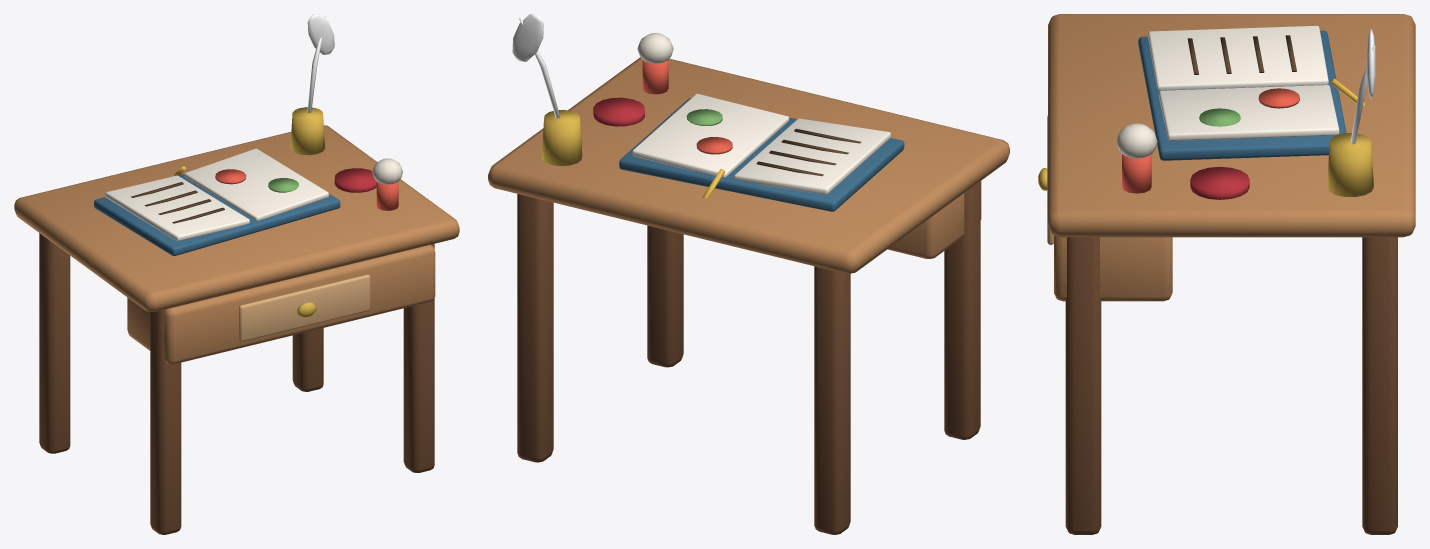
File: guestbook-desk.glb
3 views of the same model, side by side, from view 1: azimuth 30°, elevation 25°; view 2: azimuth 150°, elevation 25°; view 3: azimuth 270°, elevation 25° (orthographic). The views are drawn at different scales.
Visible parts, largest first — view 1: desk, book, props; view 2: desk, book, props; view 3: desk, book, props.
Boxes of the visible parts, <box> form: desk: <box>14,125,459,534</box>; book: <box>94,148,340,255</box>; props: <box>290,14,402,210</box>; desk: <box>488,57,1009,534</box>; book: <box>619,93,904,211</box>; props: <box>512,14,673,166</box>; desk: <box>1038,14,1415,534</box>; book: <box>1138,25,1364,160</box>; props: <box>1116,29,1375,199</box>.
Bounding box in the file's own units: 0.82 × 0.9353 × 0.6364.
